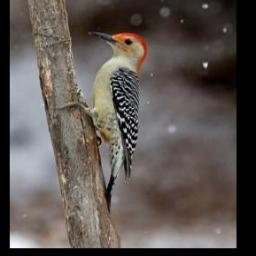Woodpecker: (54, 30, 147, 210)
